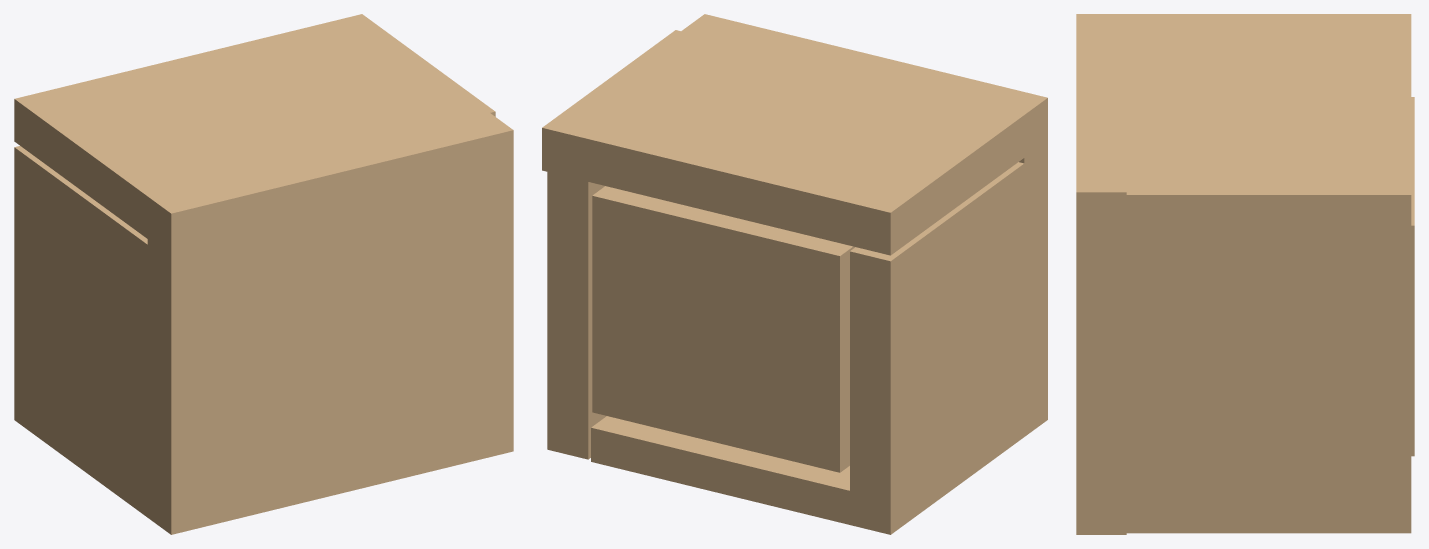
The model's file is tinker.obj.
3 renders of one model, left to right at view 1: azimuth 30°, elevation 25°; view 2: azimuth 150°, elevation 25°; view 3: azimuth 270°, elevation 25°, orthographic. The views are drawn at different scales.
Visible parts, largest first — view 1: obj_0; view 2: obj_0; view 3: obj_0.
Part boxes in pixels (bbox=[...]): obj_0: bbox=[14, 14, 513, 534]; obj_0: bbox=[542, 14, 1047, 534]; obj_0: bbox=[1076, 14, 1414, 534].
Bounding box in the file's own units: 128 × 113 × 101.
